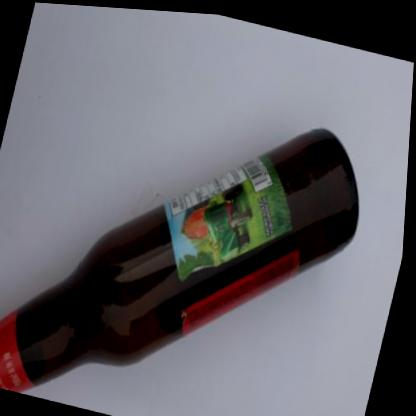Glass: (0, 122, 360, 391)
